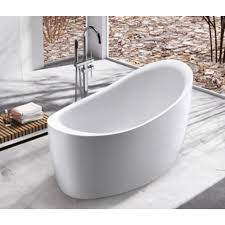bathub: (48, 56, 194, 203)
